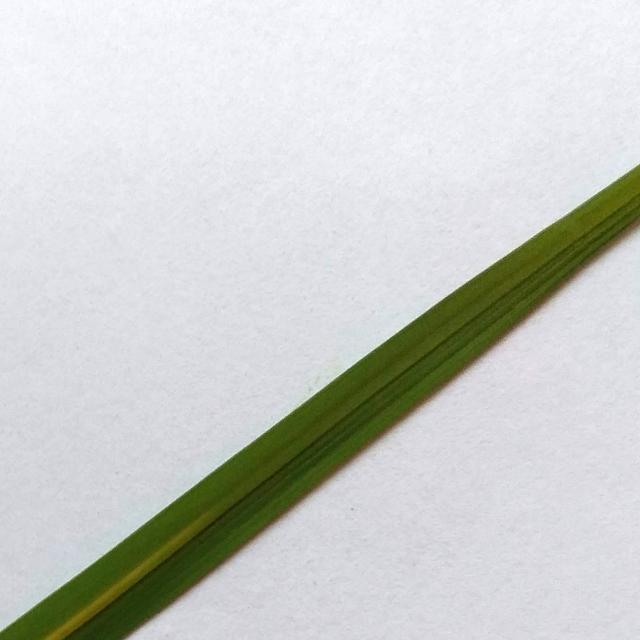Rice_Healthy: (0, 166, 640, 640)
